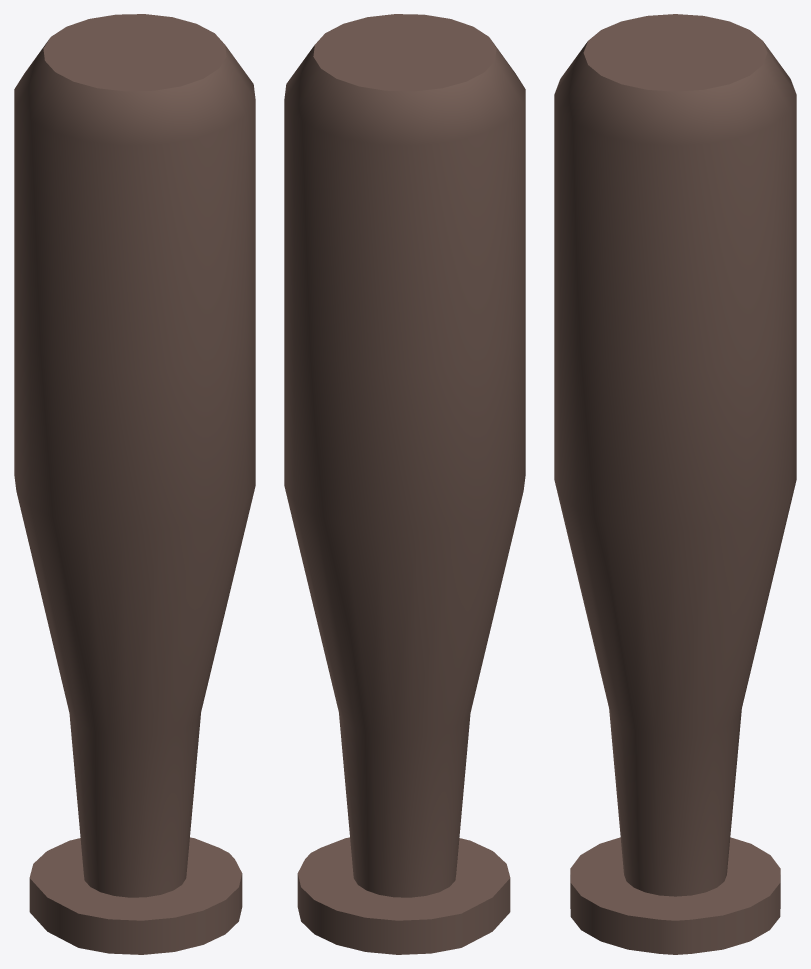
The model's file is baseballbat.fbx.
The picture shows the model from 3 angles, left to right: view 1: azimuth 30°, elevation 25°; view 2: azimuth 150°, elevation 25°; view 3: azimuth 270°, elevation 25°; orthographic projection.
Parts seen in each view (by area): view 1: pCylinder1; view 2: pCylinder1; view 3: pCylinder1.
Boxes of the visible parts, box(x1,y1,x2,y2) form: pCylinder1: box(14, 14, 255, 954); pCylinder1: box(284, 14, 525, 954); pCylinder1: box(554, 14, 796, 954).
Size of the model in its own units: 2 by 7.8 by 2.
